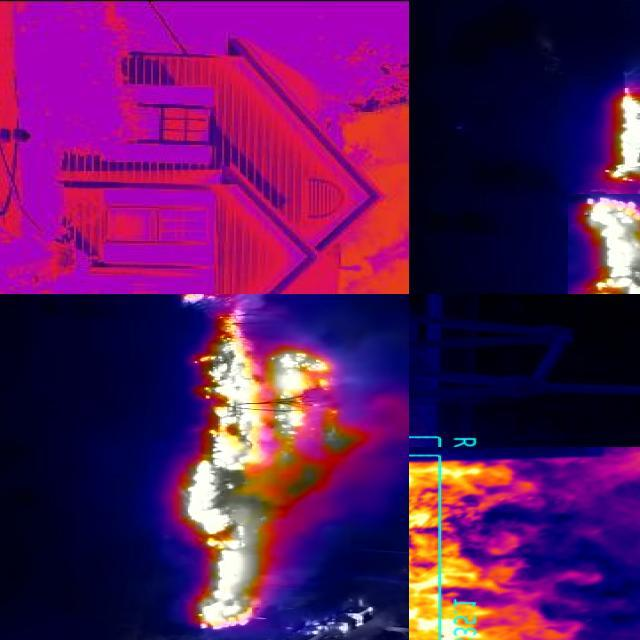fire: (174, 295, 360, 631), (410, 447, 640, 640), (579, 198, 640, 298), (605, 87, 640, 185)
